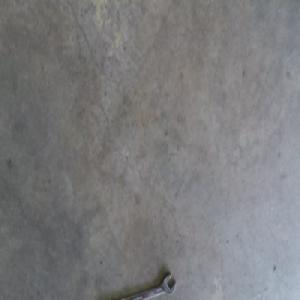Wrench: (124, 271, 175, 299)
